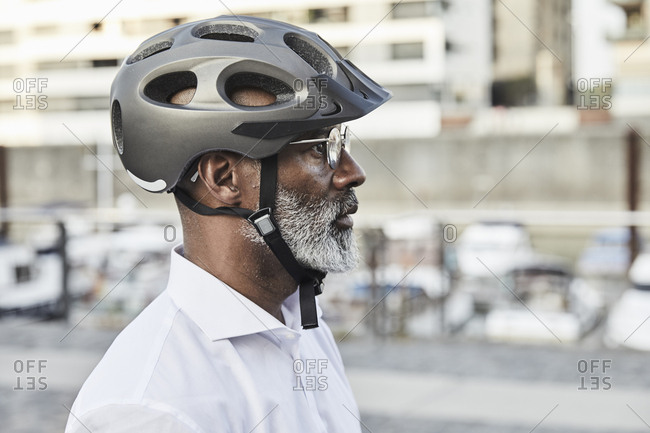helmet: (110, 16, 393, 280)
